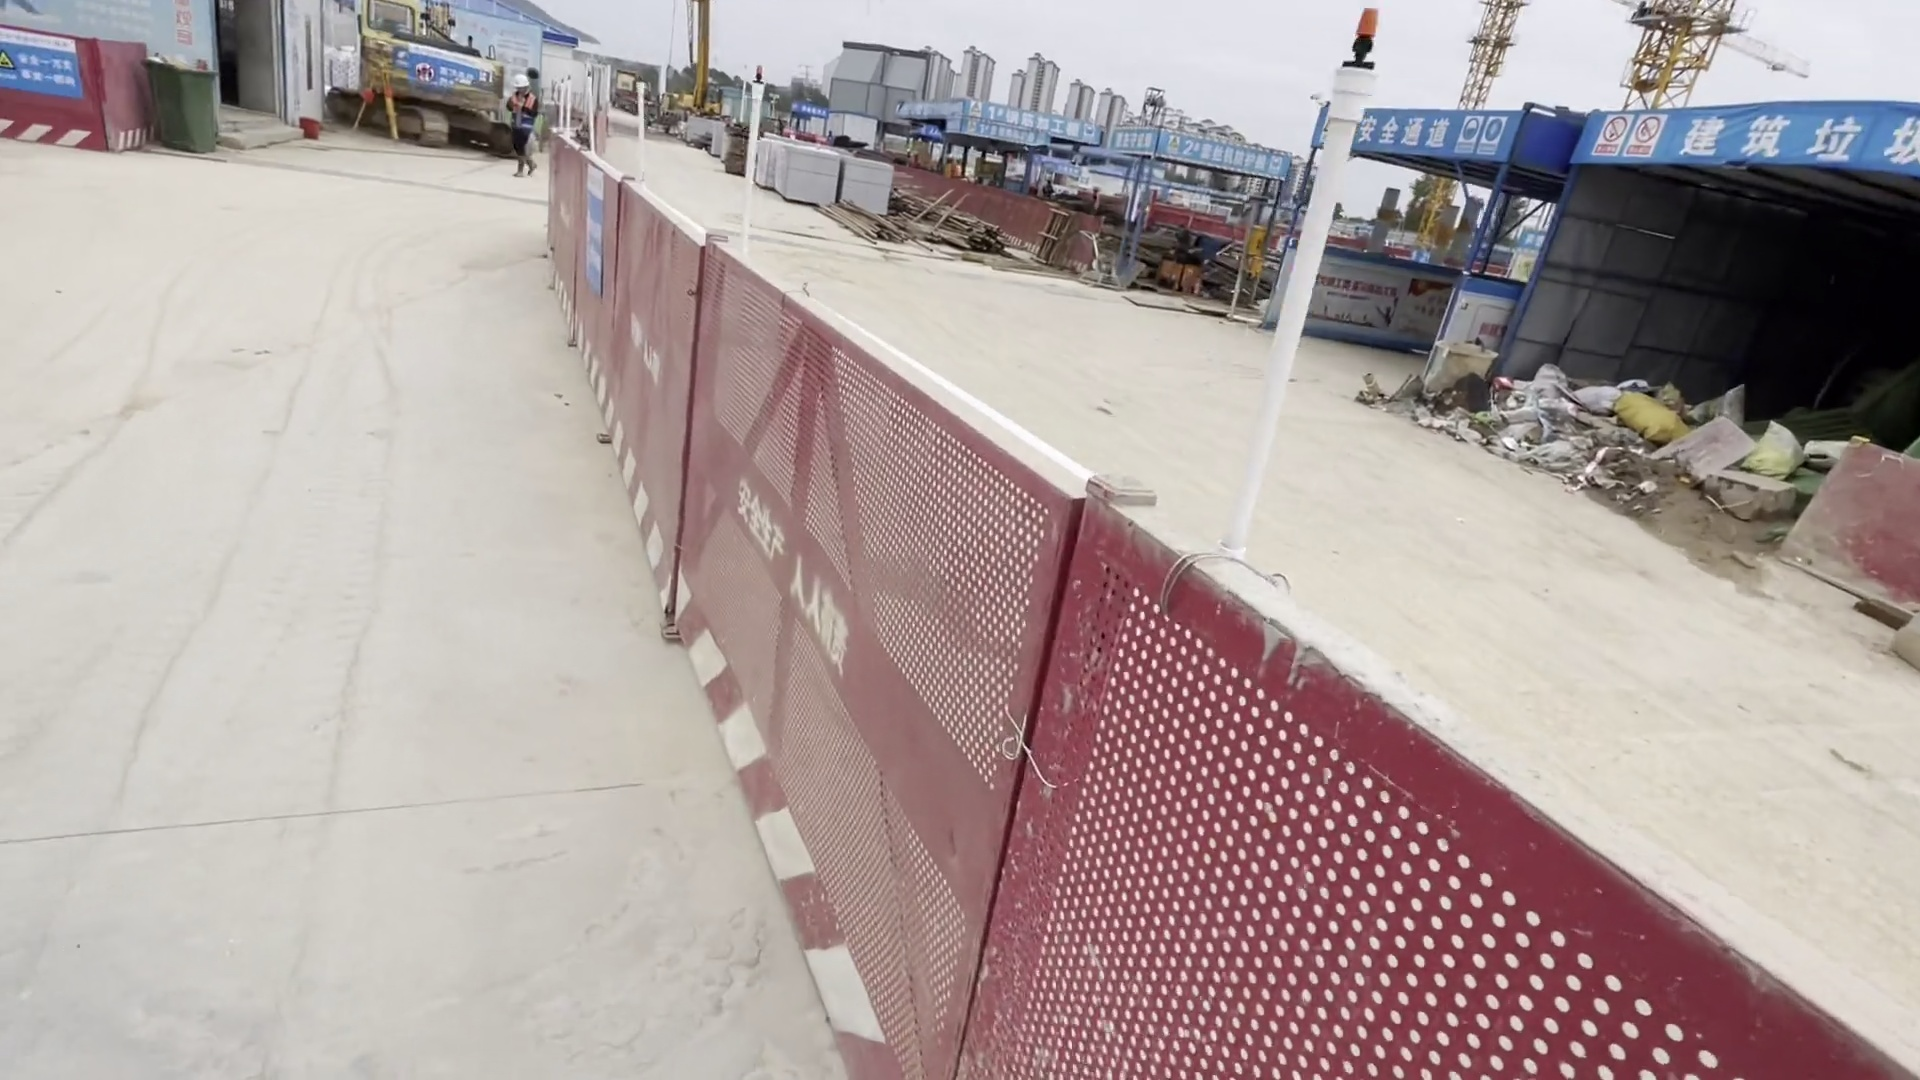brick: (765, 131, 895, 208)
fence: (554, 142, 1760, 1080)
slogan: (1328, 94, 1888, 193), (909, 94, 1294, 185)
